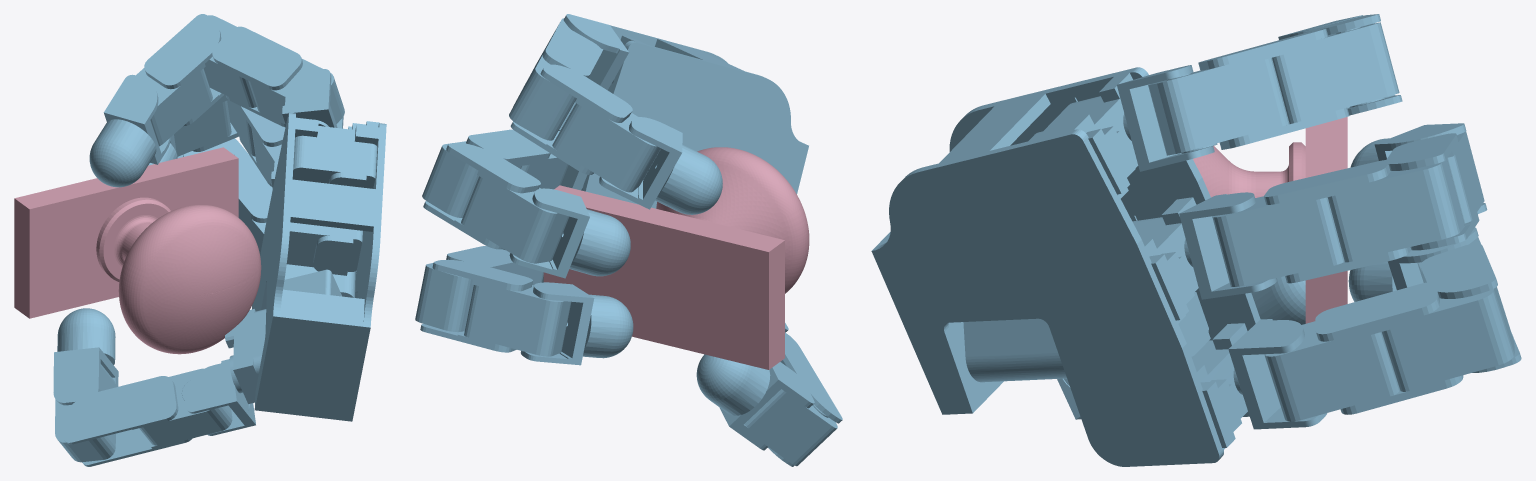
3 renders of one model, left to right at view 1: azimuth 30°, elevation 25°; view 2: azimuth 150°, elevation 25°; view 3: azimuth 270°, elevation 25°, orthographic. The views are drawn at different scales.
Parts seen in each view (by area): view 1: world; view 2: world; view 3: world.
Boxes of the visible parts, <box> form: world: <box>14,14,386,466</box>; world: <box>415,14,842,466</box>; world: <box>871,14,1521,466</box>.
Bounding box in the file's own units: 0.1435 × 0.1681 × 0.194.
